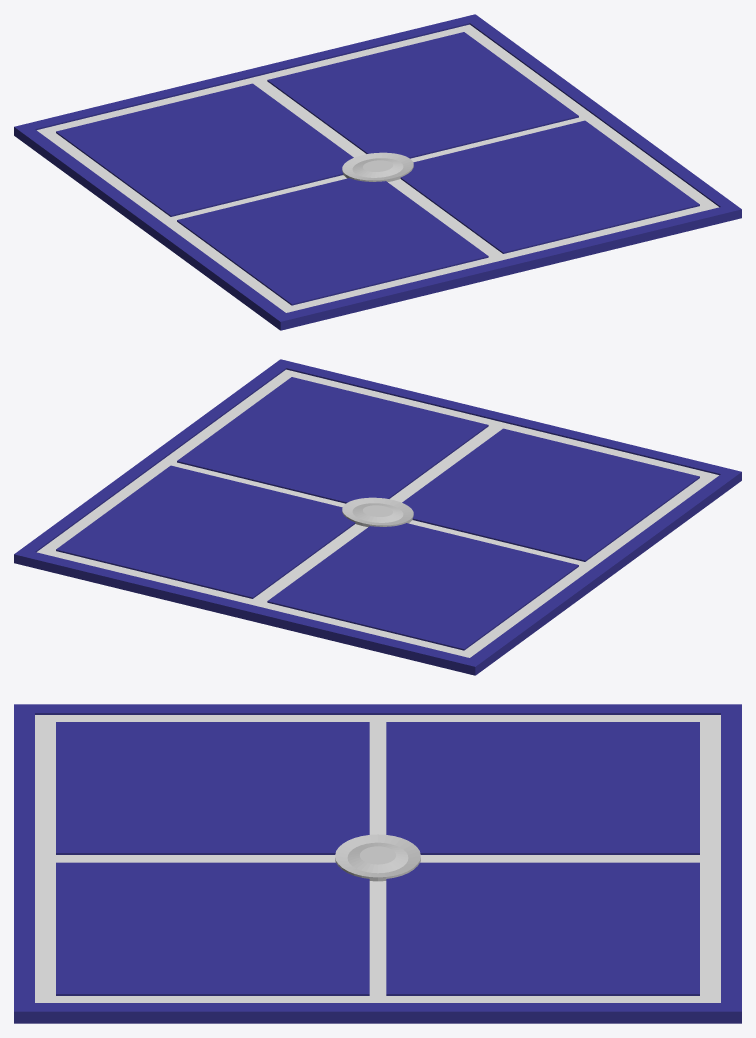
The model's file is RoomFloor.fbx.
3 views of the same model, one above another, from view 1: azimuth 30°, elevation 25°; view 2: azimuth 150°, elevation 25°; view 3: azimuth 270°, elevation 25° (orthographic). The views are drawn at different scales.
Visible parts, largest first — view 1: Cube.010; view 2: Cube.010; view 3: Cube.010.
Boxes of the visible parts, x1,y1,x2,y2 form: Cube.010: (14,14,741,330); Cube.010: (14,359,741,675); Cube.010: (14,704,741,1023).
Size of the model in its own units: 656 by 14.54 by 656.
